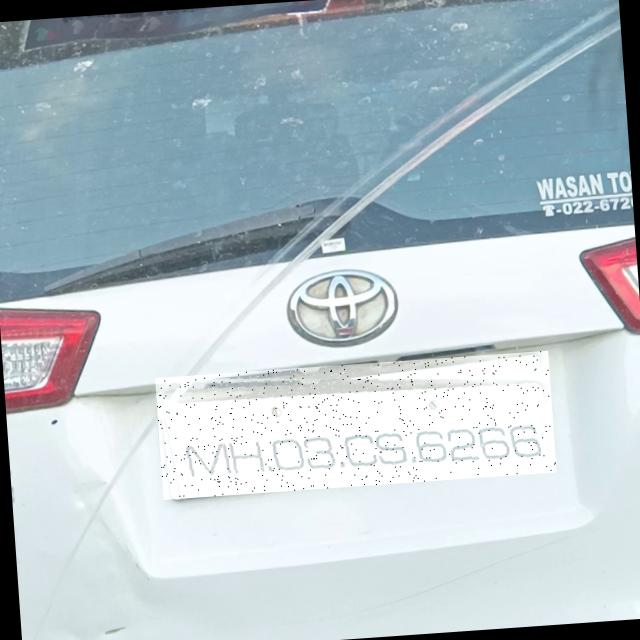Plate: (156, 352, 558, 501)
